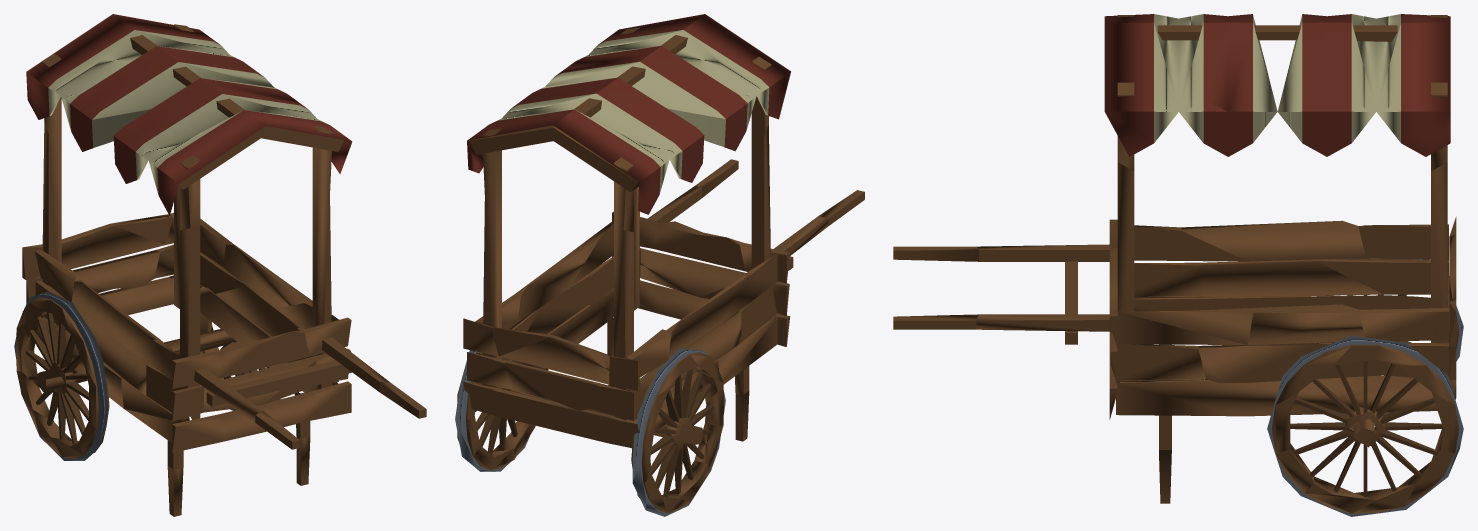
Rendered from merchant_cart-mid.glb.
The picture shows the model from 3 angles, left to right: view 1: azimuth 30°, elevation 25°; view 2: azimuth 150°, elevation 25°; view 3: azimuth 270°, elevation 25°; orthographic projection. The views are drawn at different scales.
Visible parts, largest first — view 1: Cart; view 2: Cart; view 3: Cart.
Boxes of the visible parts, box(x1,y1,x2,y2) form: Cart: box(14, 14, 426, 516); Cart: box(455, 14, 864, 516); Cart: box(893, 14, 1463, 516).
Size of the model in its own units: 0.462 by 0.7961 by 0.9274.
